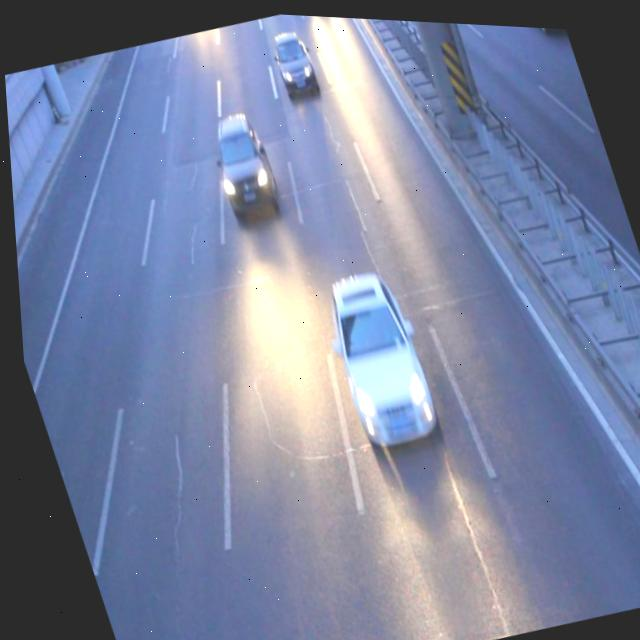car: (306, 257, 442, 453), (199, 105, 281, 218), (266, 25, 319, 97)
